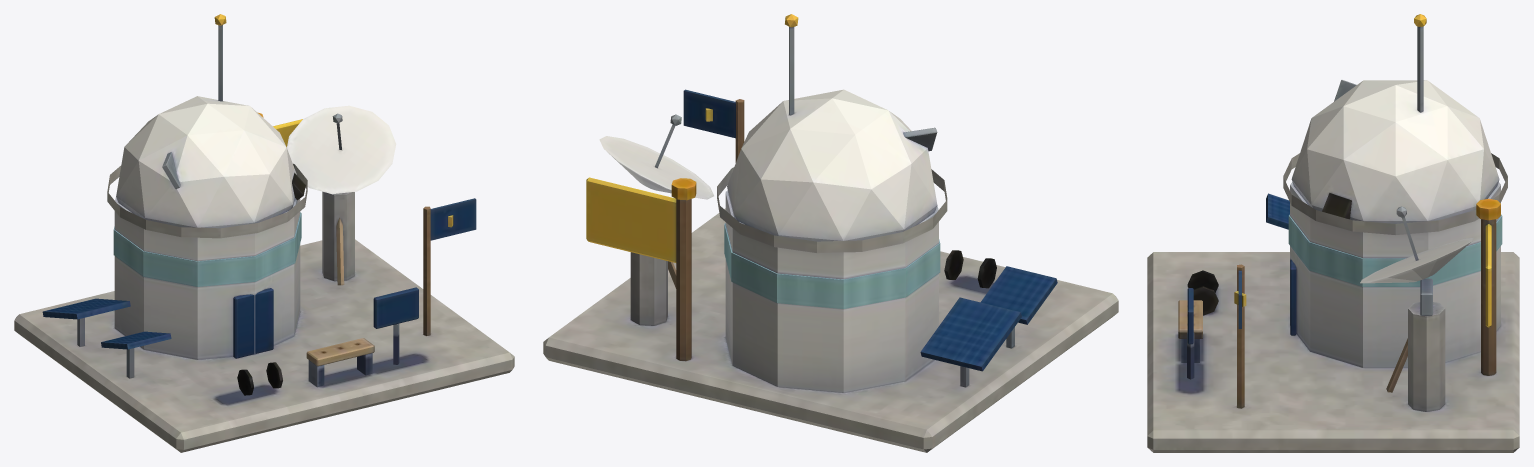
File: observatory-25.glb
3 views of the same model, side by side, from view 1: azimuth 30°, elevation 25°; view 2: azimuth 150°, elevation 25°; view 3: azimuth 270°, elevation 25° (orthographic). The views are drawn at different scales.
Visible parts, largest first — view 1: observatory-25; view 2: observatory-25; view 3: observatory-25.
Part boxes in pixels (<box>): observatory-25: <box>14,14,514,452</box>; observatory-25: <box>543,14,1118,452</box>; observatory-25: <box>1147,14,1519,452</box>.
Bounding box in the file's own units: 1.43 × 1.23 × 1.2.
1 material, 1 textured.
